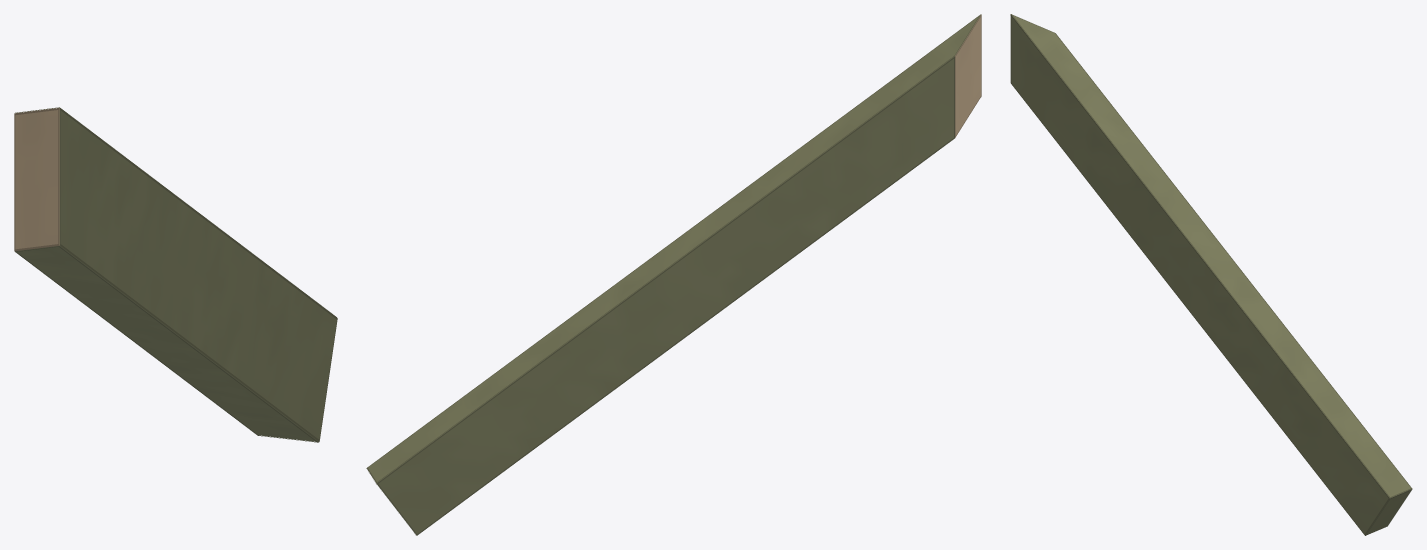
3 views of the same model, side by side, from view 1: azimuth 30°, elevation 25°; view 2: azimuth 150°, elevation 25°; view 3: azimuth 270°, elevation 25° (orthographic). The views are drawn at different scales.
Visible parts, largest first — view 1: part-b; view 2: part-b; view 3: part-b.
Boxes of the visible parts, x1,y1,x2,y2 form: part-b: [14, 107, 337, 442]; part-b: [366, 14, 981, 535]; part-b: [1010, 14, 1412, 535].
Size of the model in its own units: 0.54 by 0.5843 by 0.5718.
